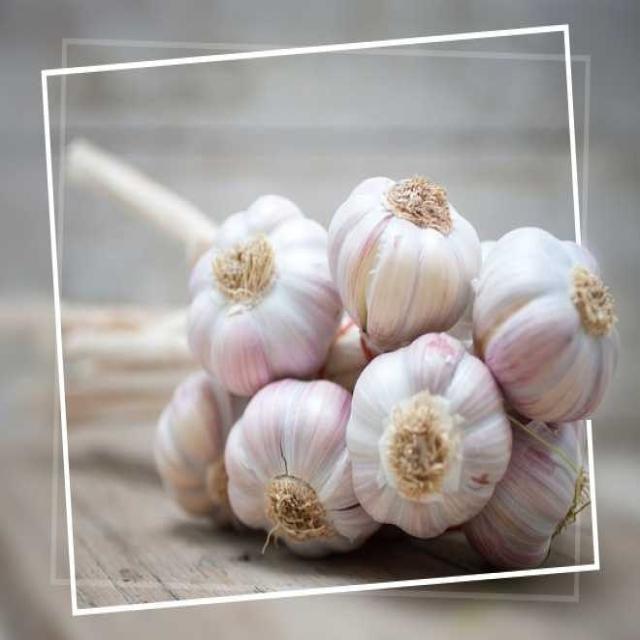Garlic: (178, 178, 356, 407), (340, 332, 526, 549), (459, 214, 627, 435), (214, 372, 391, 562), (332, 160, 486, 346)
